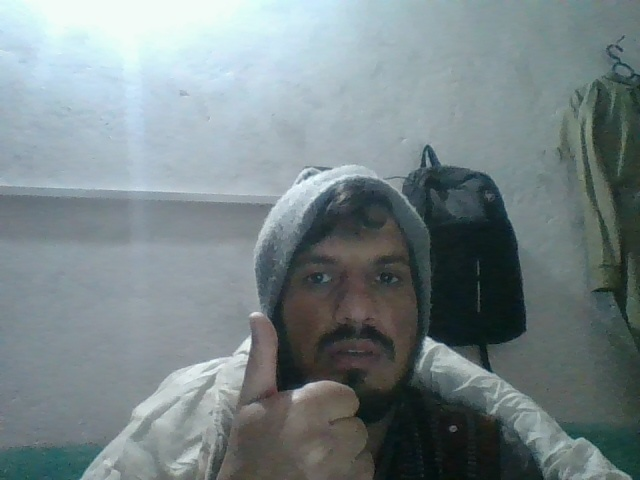ThumbsUp: (220, 307, 380, 480)
